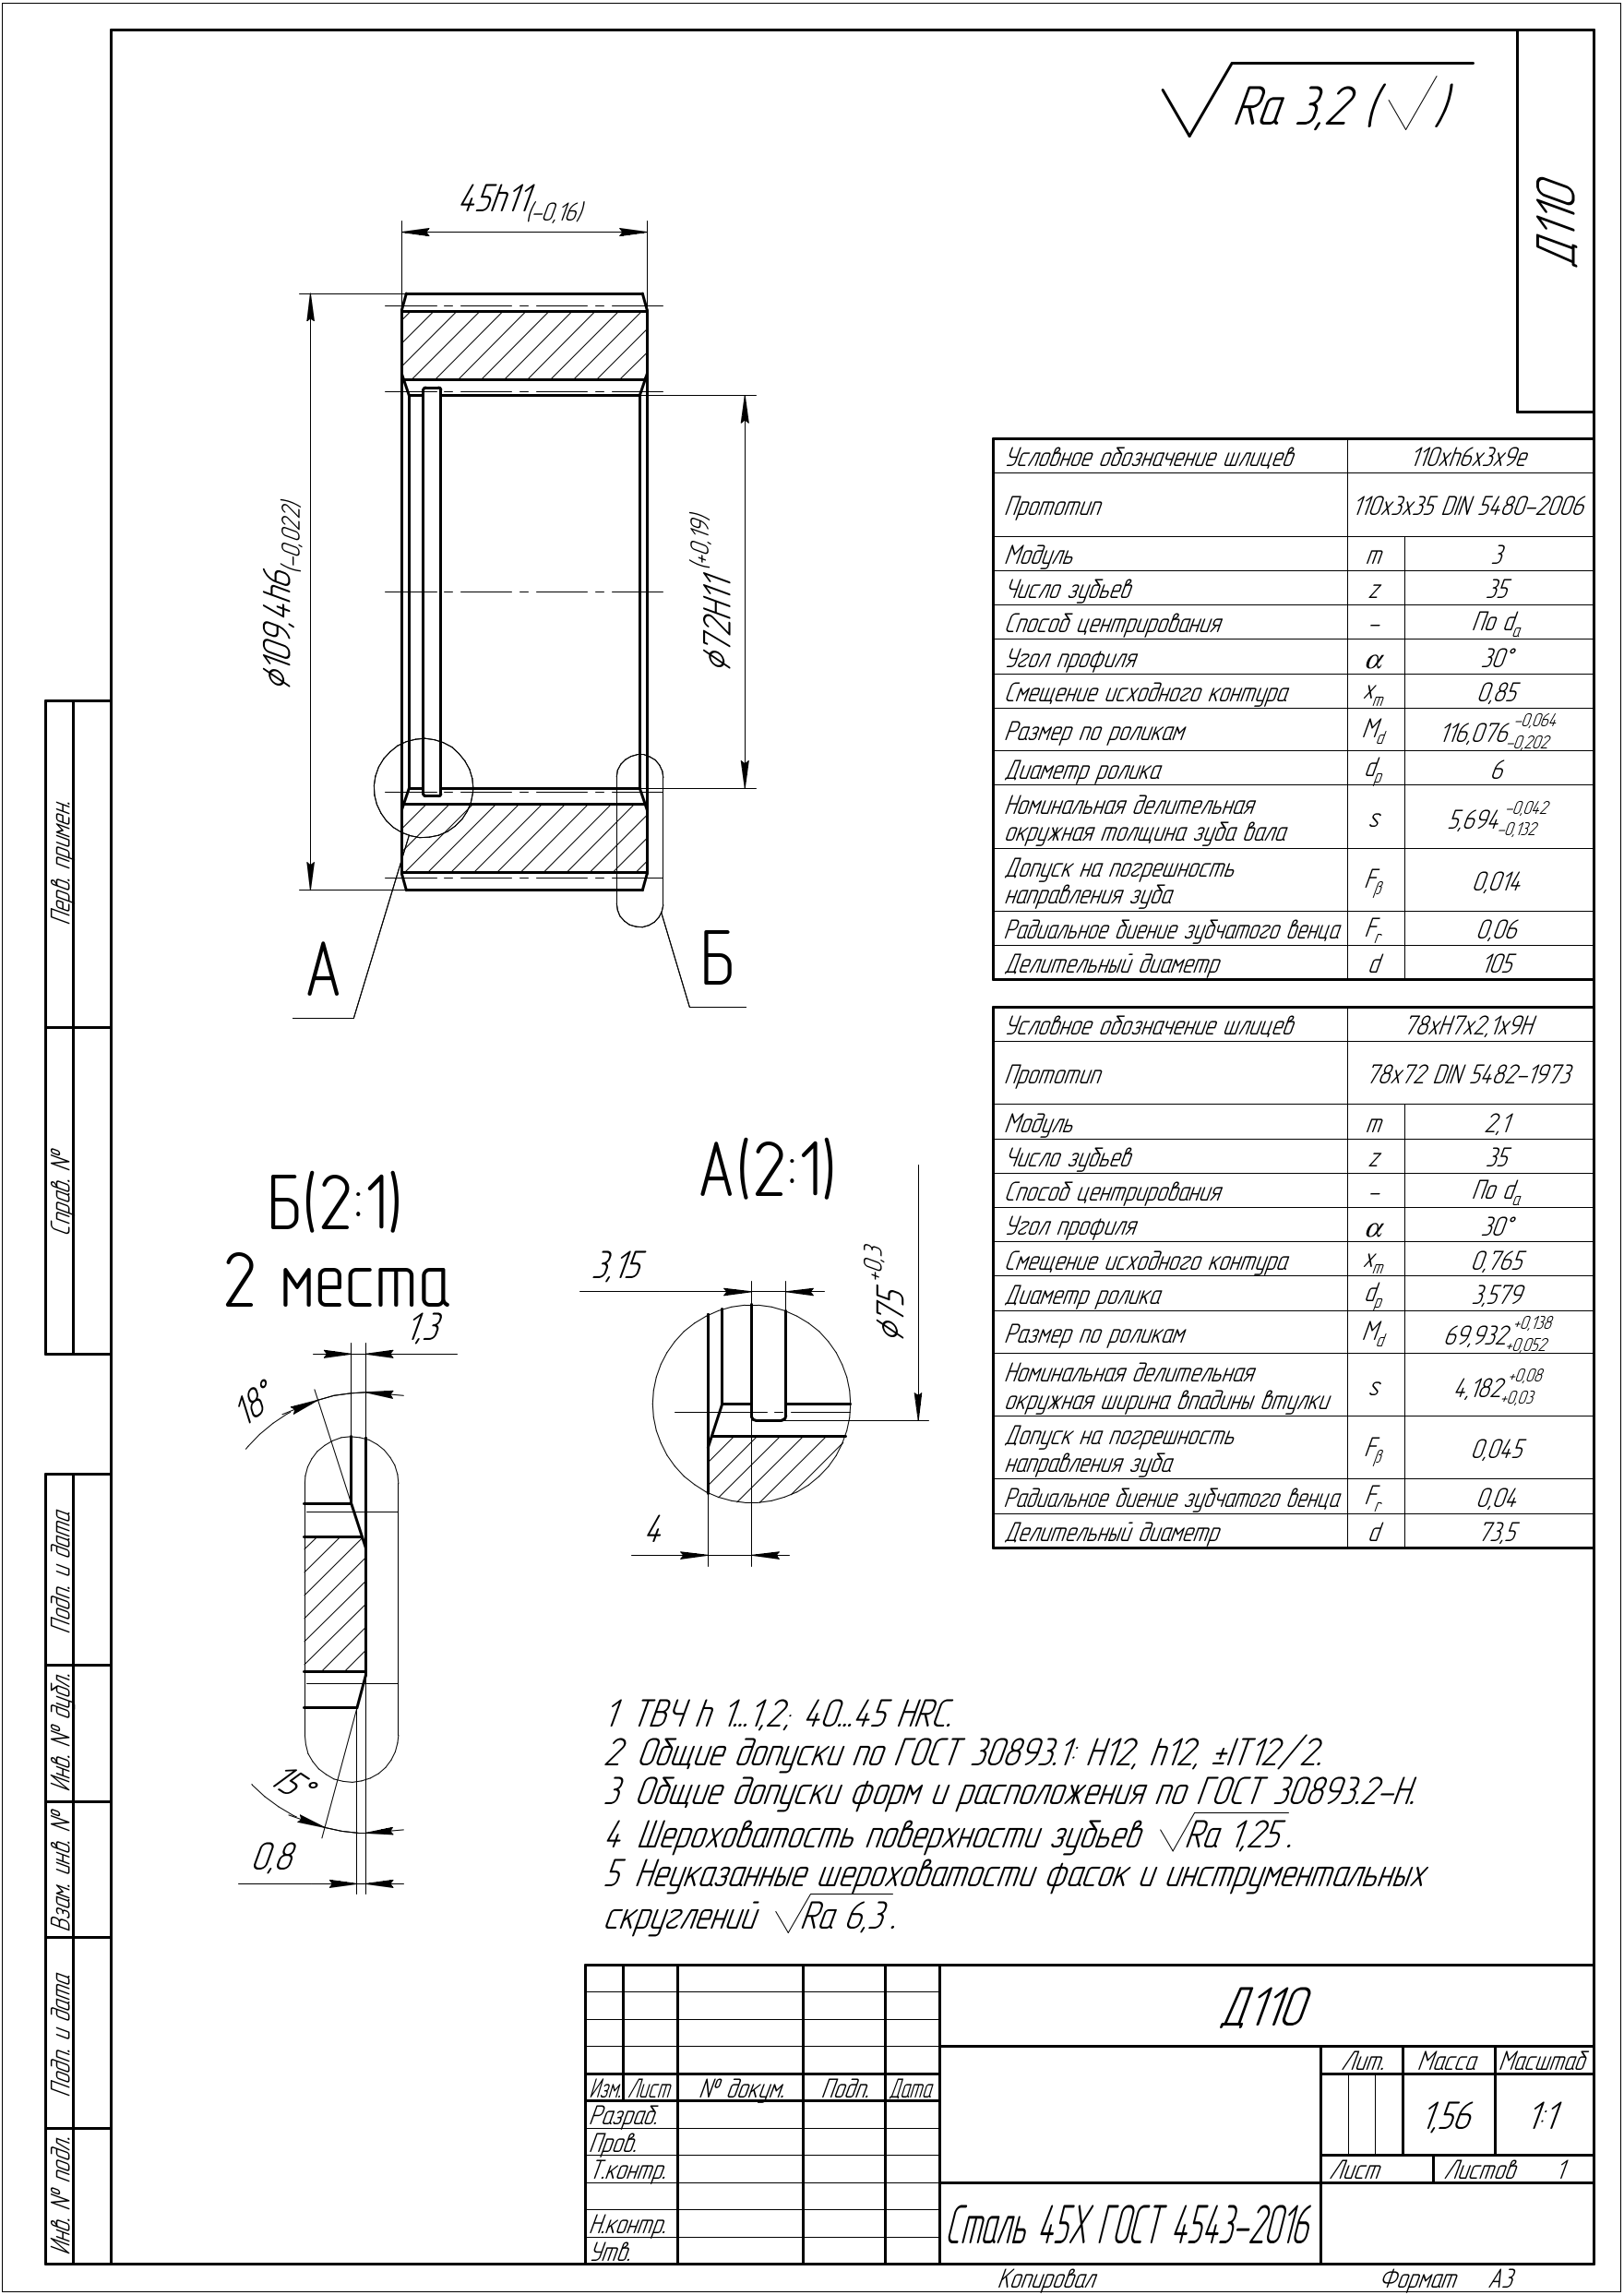Диаметральный размер: (251, 286, 318, 893), (675, 390, 761, 794), (854, 1147, 937, 1436)
Допуск: (682, 503, 735, 620), (257, 494, 304, 605), (490, 176, 585, 227)
Линейный размер: (394, 162, 652, 237), (568, 1232, 826, 1300), (228, 1829, 418, 1903), (622, 1501, 791, 1569), (302, 1309, 464, 1362)
Общая шероховатость: (1149, 42, 1492, 155)
Таблица параметров: (986, 431, 1598, 988), (986, 1002, 1599, 1553)
Технические требования: (591, 1687, 1457, 1938)
Угловой размер: (228, 1733, 417, 1840), (207, 1364, 402, 1459)
